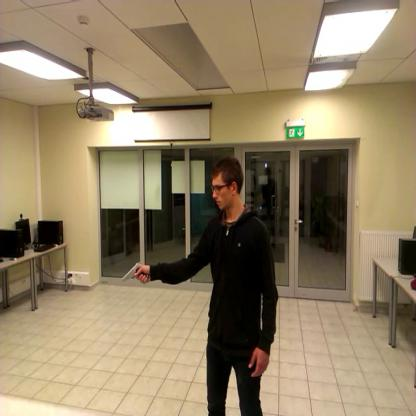Pistol: (118, 254, 150, 297)
